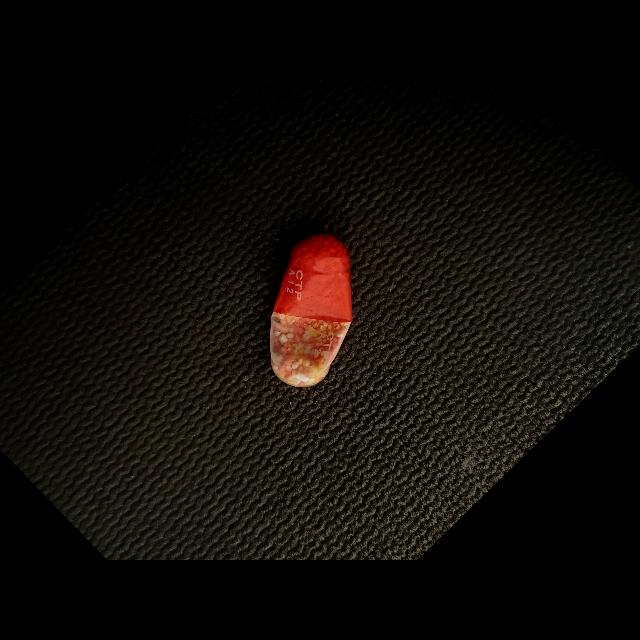Defective Capsule: (270, 233, 352, 388)
